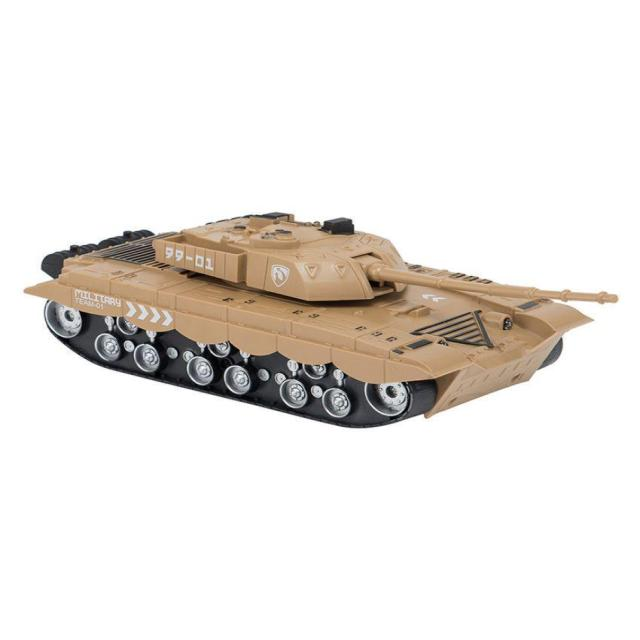Tanks: (37, 189, 569, 416)
